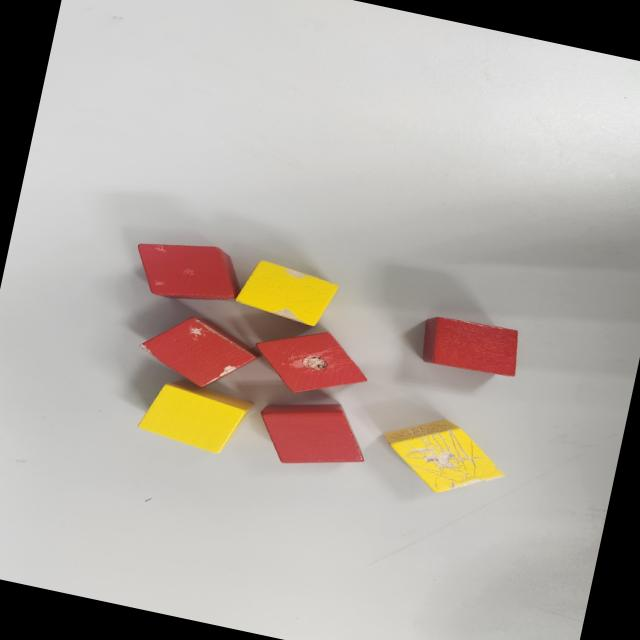broken: (372, 406, 516, 505), (136, 305, 266, 398), (248, 316, 376, 406), (127, 230, 245, 312), (232, 254, 342, 330)
red: (250, 388, 376, 480), (415, 310, 525, 382)
yellow: (132, 371, 256, 460)
